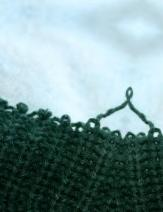snag: (85, 86, 159, 139)
